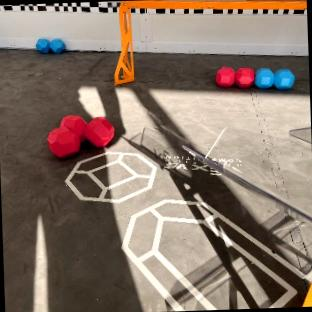V5_BLUE: (256, 69, 293, 88), (37, 38, 64, 53)
V5_RED: (48, 115, 113, 158), (235, 68, 254, 86), (216, 68, 235, 85)
